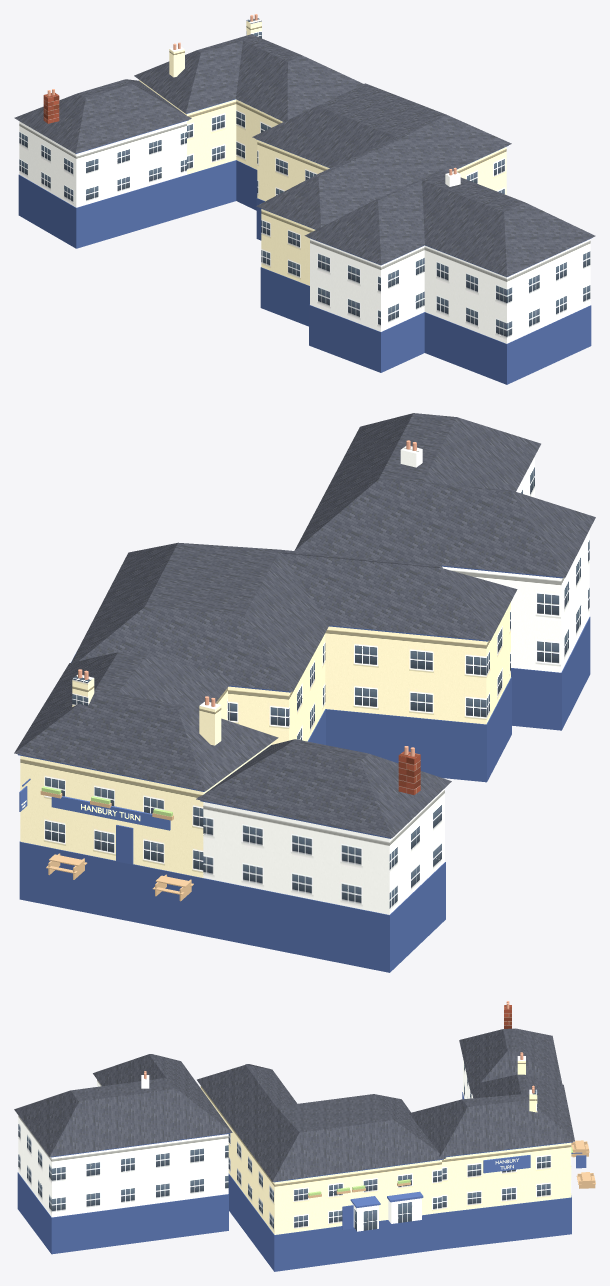
Rendered from hanbury_turn.glb.
3 renders of one model, top to bottom at view 1: azimuth 30°, elevation 25°; view 2: azimuth 150°, elevation 25°; view 3: azimuth 270°, elevation 25°, orthographic. The views are drawn at different scales.
Visible parts, largest first — view 1: PubRoof, PubPlinth, Gable, Pub, Cottage; view 2: PubRoof, PubPlinth, Pub, Cottage, Gable, Fascia, WindowBox, Chimney.002; view 3: PubRoof, PubPlinth, Pub, Gable, Bay, Fascia, WindowBox.
Boxes of the visible parts, x1=… form: PubRoof: x1=14, y1=34, x2=595, y2=276; PubPlinth: x1=18, y1=99, x2=592, y2=384; Gable: x1=310, y1=172, x2=590, y2=343; Pub: x1=139, y1=18, x2=506, y2=285; Cottage: x1=19, y1=121, x2=186, y2=207; PubRoof: x1=14, y1=413, x2=595, y2=838; PubPlinth: x1=17, y1=565, x2=590, y2=972; Pub: x1=20, y1=602, x2=510, y2=877; Cottage: x1=203, y1=788, x2=444, y2=914; Gable: x1=400, y1=446, x2=589, y2=672; Fascia: x1=19, y1=652, x2=170, y2=830; WindowBox: x1=40, y1=790, x2=193, y2=901; Chimney.002: x1=398, y1=751, x2=420, y2=794; PubRoof: x1=14, y1=1028, x2=574, y2=1181; PubPlinth: x1=17, y1=1092, x2=582, y2=1271; Pub: x1=200, y1=1056, x2=571, y2=1234; Gable: x1=18, y1=1075, x2=228, y2=1217; Bay: x1=352, y1=1198, x2=421, y2=1231; Fascia: x1=350, y1=1155, x2=586, y2=1208; WindowBox: x1=308, y1=1140, x2=595, y2=1198.
Bounding box in the file's own units: 30.81 × 13.75 × 50.4.
13 materials, 6 textured.
